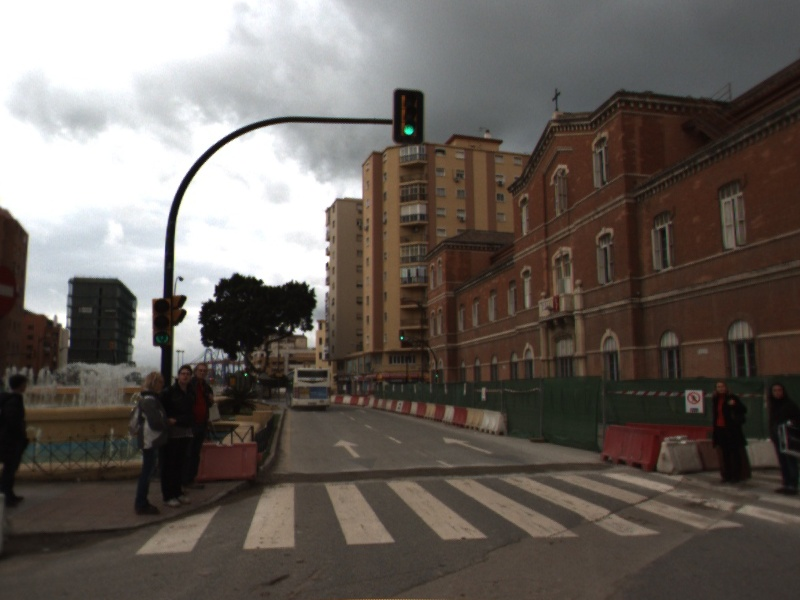STRAIGHT: (441, 434, 496, 457), (331, 437, 364, 460)
